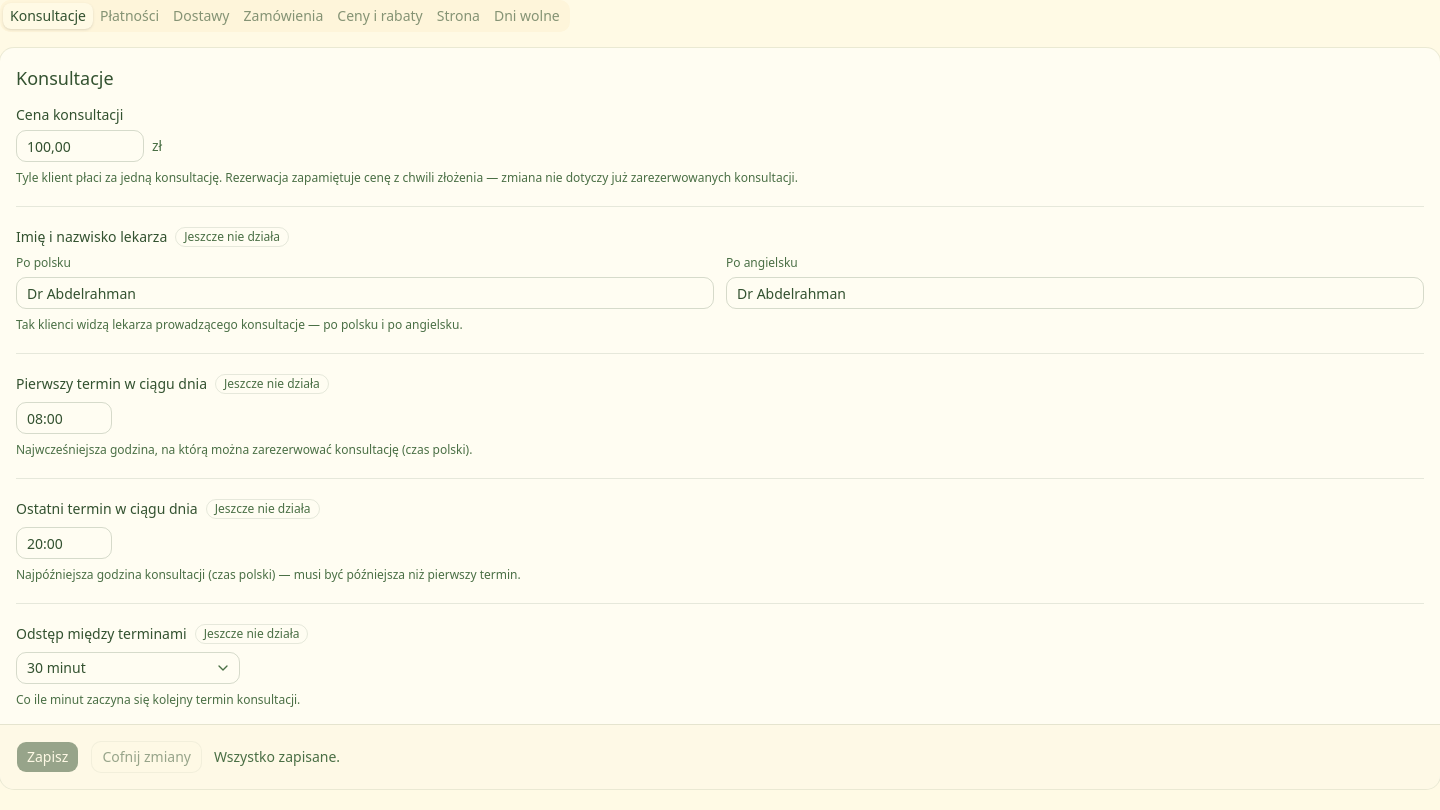
Test case: SettingsForm (generated from the registry schema) › refuses an unparseable amount before sending anything
Replace the text in the field labelled "Cena konsultacji" with "12,345" at (80, 146), box 16,130 -> 144,162
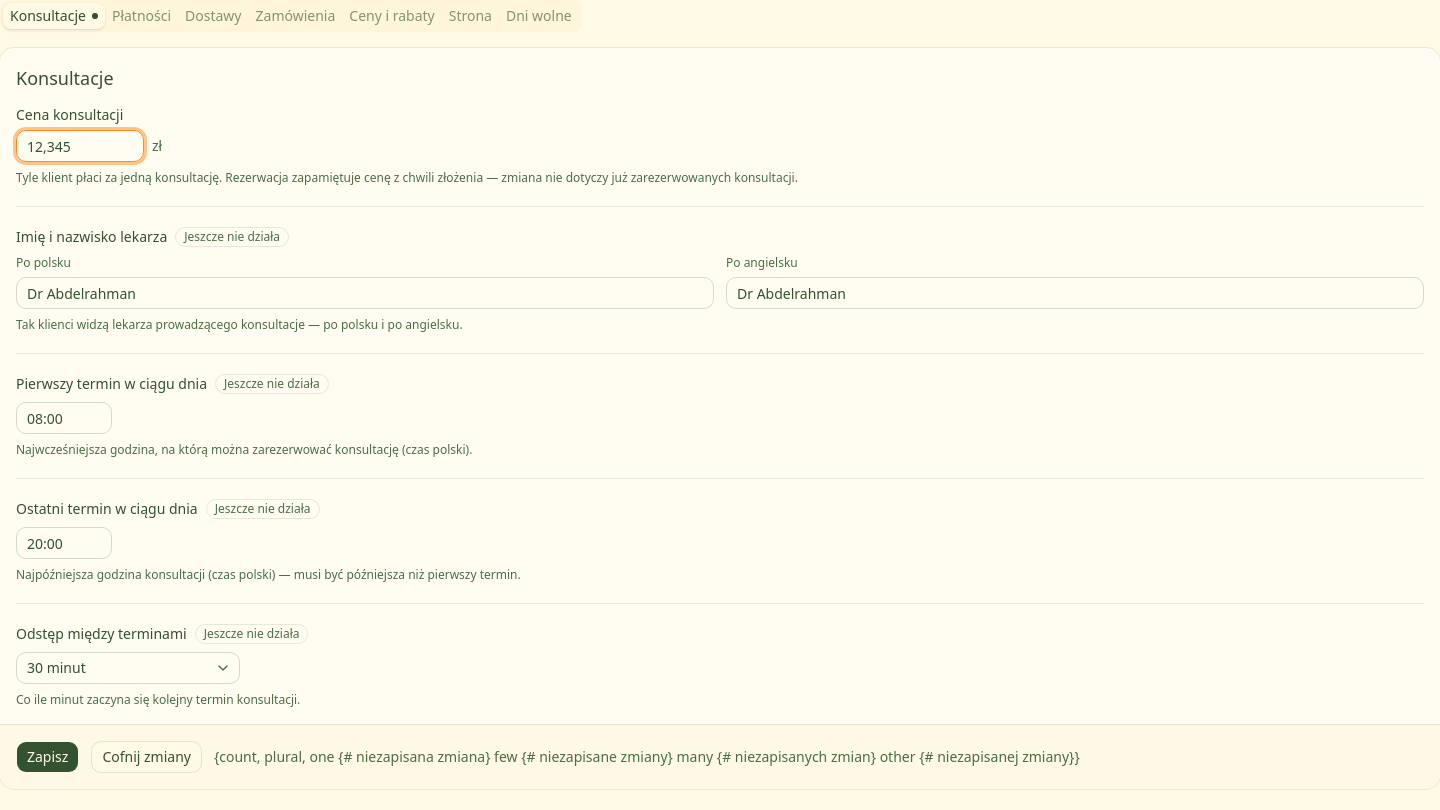
Click the button with test id "settings-save-consultations" at (48, 757), box 16,741 -> 79,773
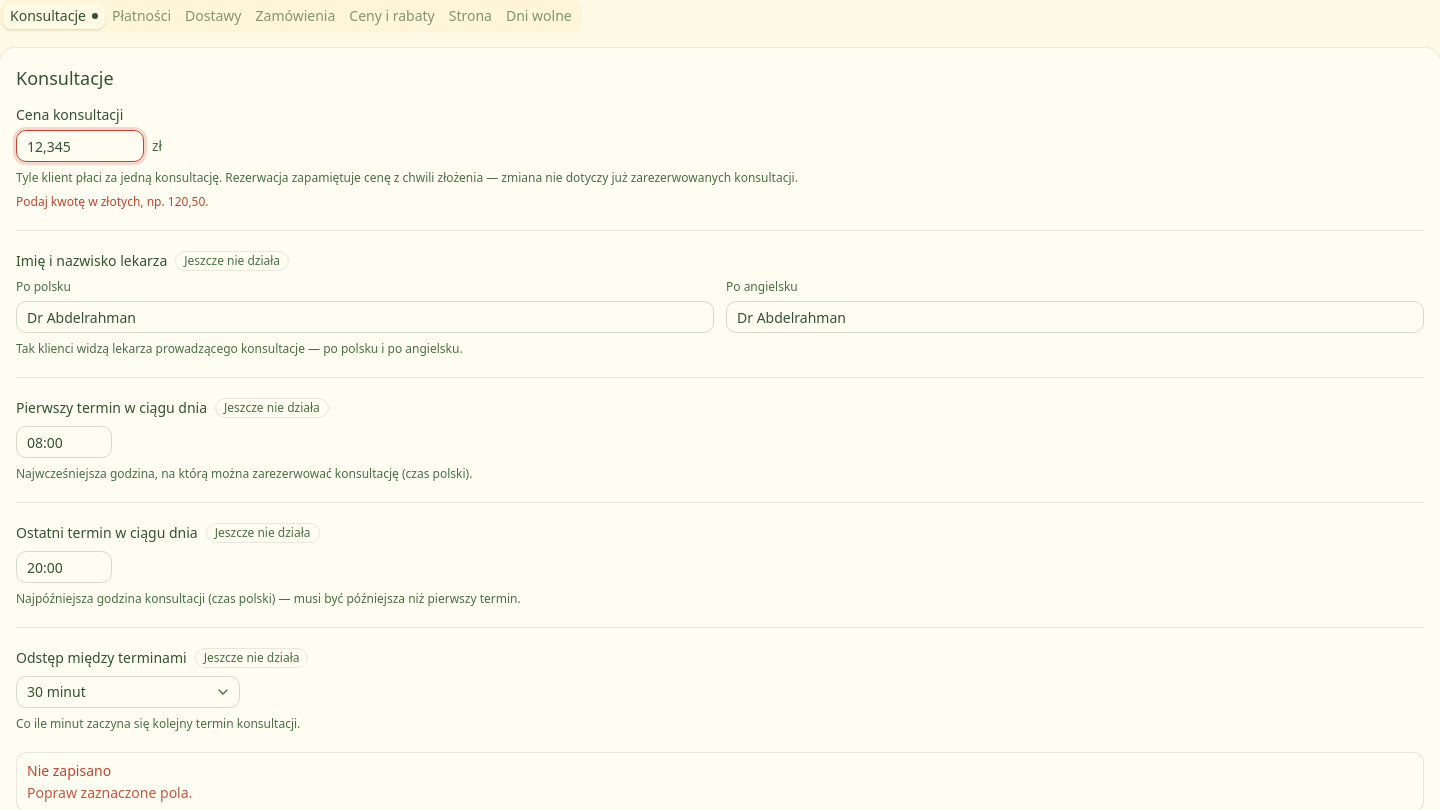
Result: the text "Podaj kwotę w złotych, np. 120,50." is shown at 16,193 -> 209,210
